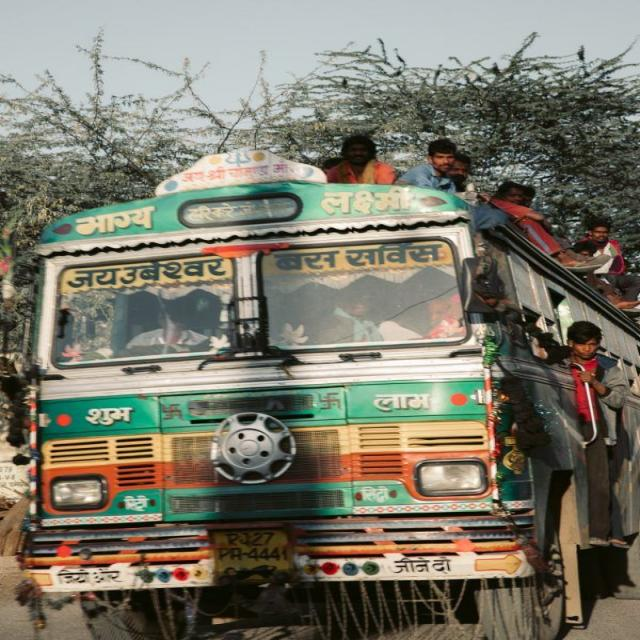bus: (20, 150, 638, 640)
